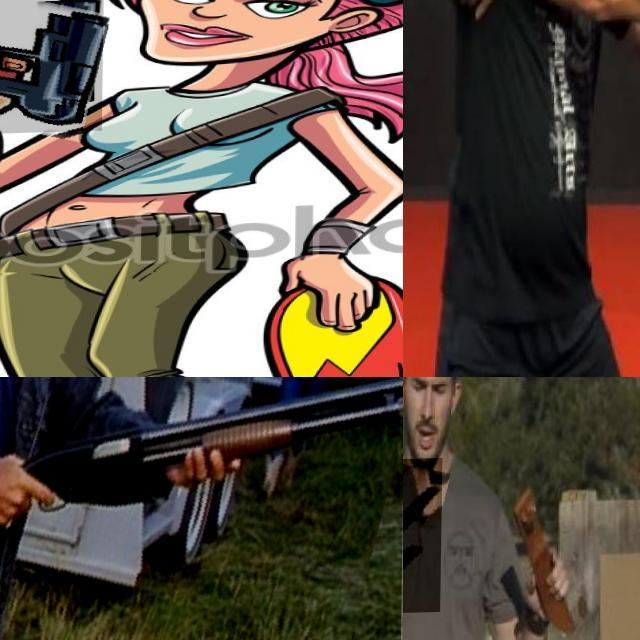-: (403, 459, 455, 616), (525, 0, 634, 41)
gun-knife-thesis - v11 Yolov5 augmented: (0, 377, 403, 640), (0, 0, 109, 137)
